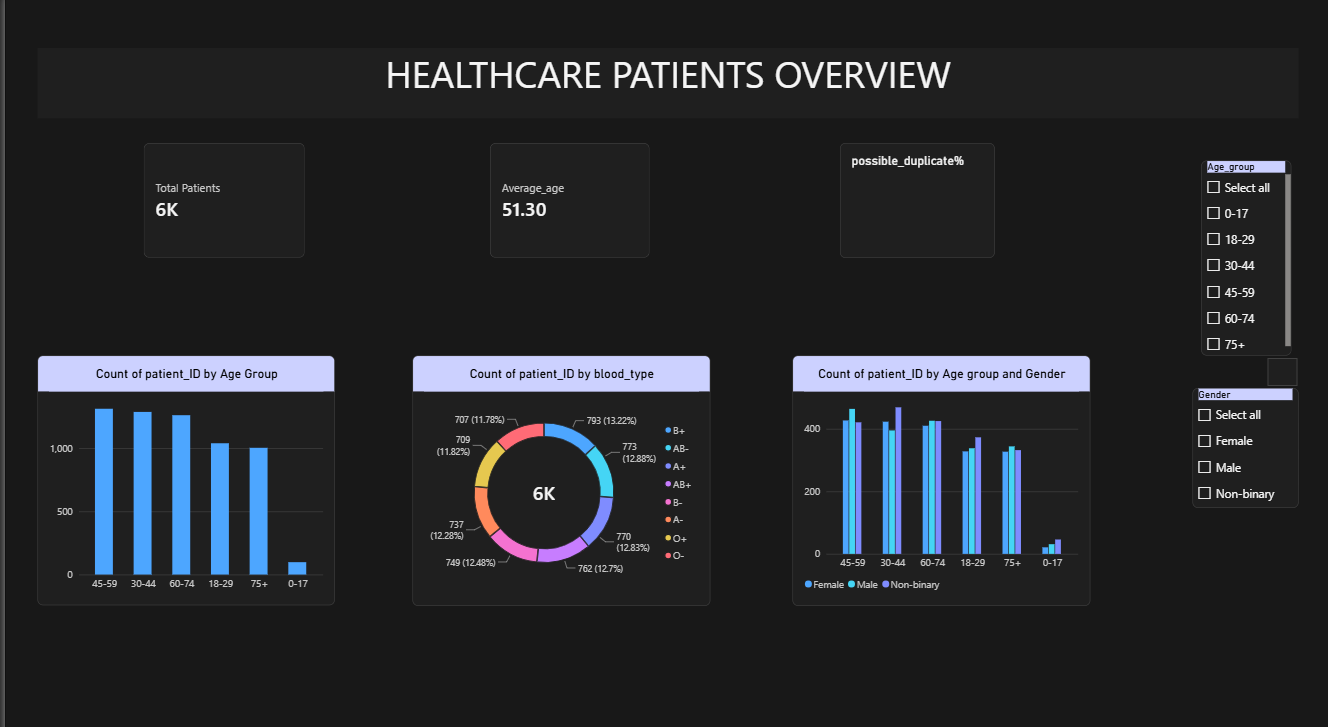

What the dashboard file says about the page in this screenshot:
{"tool":"powerbi","page":{"name":"Page 1","canvas":[1920,1080],"ordinal":0},"visuals":[{"type":"cardVisual","fields":{"Data":["patients.Total Patients"]},"box":[200.9,217.2,233.4,166.5],"z":0},{"type":"cardVisual","fields":{"Data":["patients.Average_age"]},"box":[702.1,217.2,231.6,166.5],"z":1},{"type":"kpi","fields":{"Indicator":["patients.possible_duplicate%"]},"box":[1208.9,217.2,224.4,166.5],"z":2},{"type":"clusteredColumnChart","title":"Count of patient_ID by Age Group","fields":{"Category":["patients.age_group"],"Y":["CountNonNull(patients.patient_id)"]},"box":[47.1,524.8,430.7,361.9],"z":3},{"type":"donutChart","title":"Count of patient_ID by blood_type","fields":{"Category":["patients.blood_type"],"Y":["CountNonNull(patients.patient_id)"]},"box":[589.9,524.8,431,362],"z":4},{"type":"clusteredColumnChart","title":"Count of patient_ID by Age group and Gender","fields":{"Category":["patients.age_group"],"Series":["patients.gender"],"Y":["CountNonNull(patients.patient_id)"]},"box":[1140.1,524.8,431,362],"z":5},{"type":"slicer","fields":{"Values":["patients.age_group"]},"box":[1731.8,242.5,130.3,282.3],"z":6},{"type":"slicer","fields":{"Values":["patients.gender"]},"box":[1719.2,571.9,153.8,173.7],"z":7},{"type":"textbox","box":[47.1,79.6,1825.9,101.3],"z":8}]}

Visuals, with their boxes in screenshot pixels (x1, y1, x2, y2), scaled from the page's 1920x1080 canvas onto the 1328x727 screenshot:
cardVisual - patients.Total Patients: {"left": 139, "top": 146, "right": 300, "bottom": 258}
cardVisual - patients.Average_age: {"left": 486, "top": 146, "right": 646, "bottom": 258}
kpi - patients.possible_duplicate%: {"left": 836, "top": 146, "right": 991, "bottom": 258}
"Count of patient_ID by Age Group" clusteredColumnChart: {"left": 33, "top": 353, "right": 330, "bottom": 597}
"Count of patient_ID by blood_type" donutChart: {"left": 408, "top": 353, "right": 706, "bottom": 597}
"Count of patient_ID by Age group and Gender" clusteredColumnChart: {"left": 789, "top": 353, "right": 1087, "bottom": 597}
slicer - patients.age_group: {"left": 1198, "top": 163, "right": 1288, "bottom": 353}
slicer - patients.gender: {"left": 1189, "top": 385, "right": 1295, "bottom": 502}
textbox: {"left": 33, "top": 54, "right": 1295, "bottom": 122}
